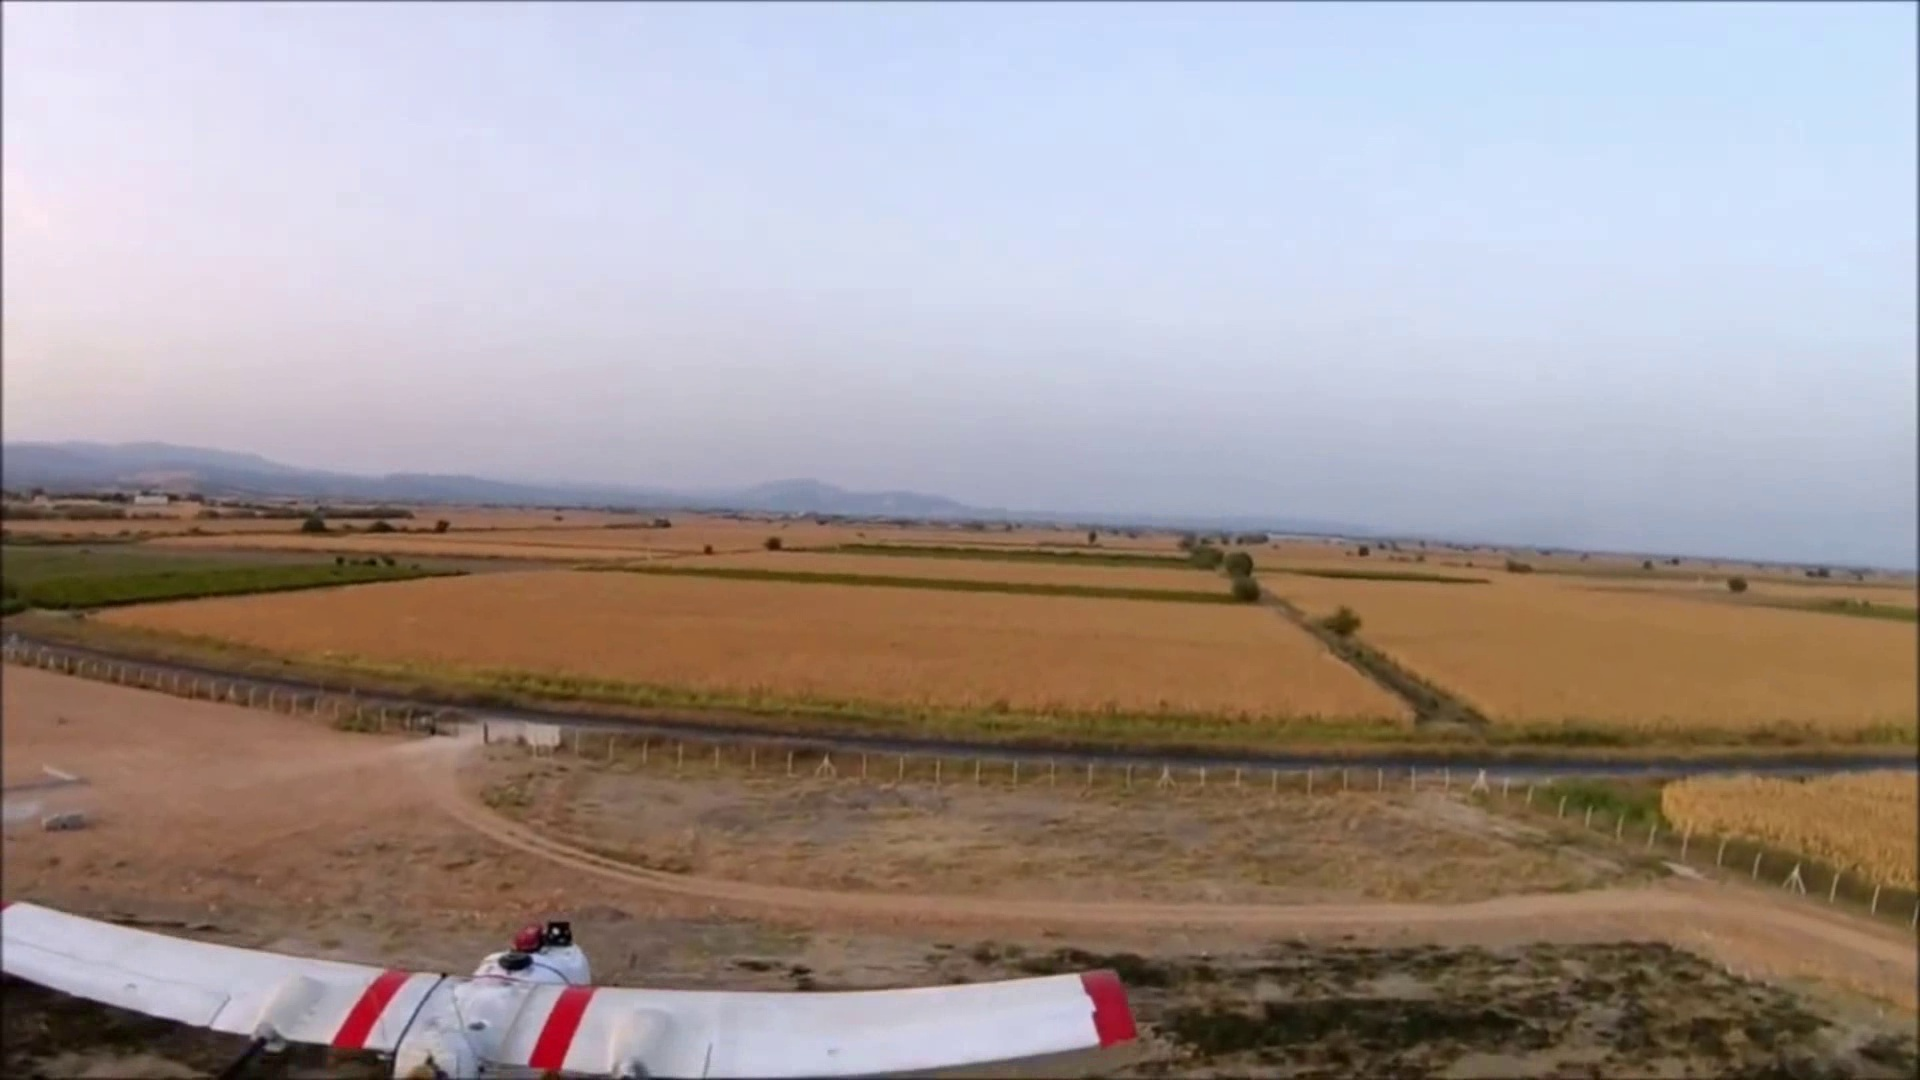airplane: (2, 896, 1142, 1070)
